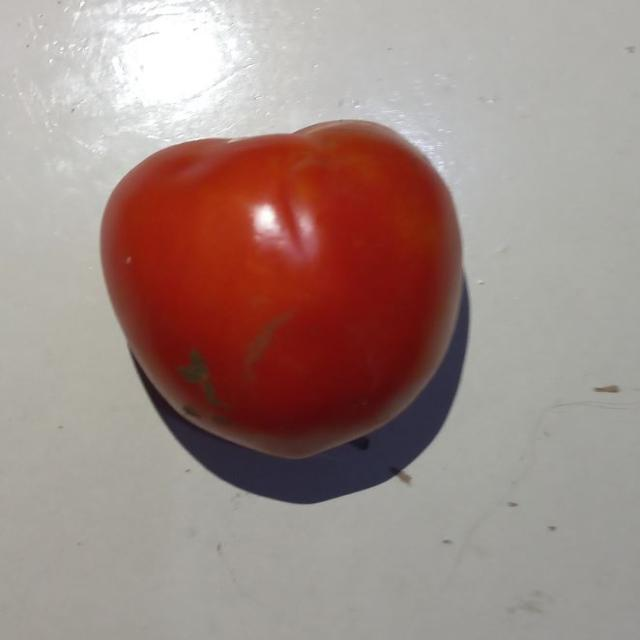ripe tomato: (72, 118, 484, 492)
